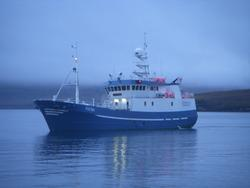otherboat: (34, 31, 199, 139)
